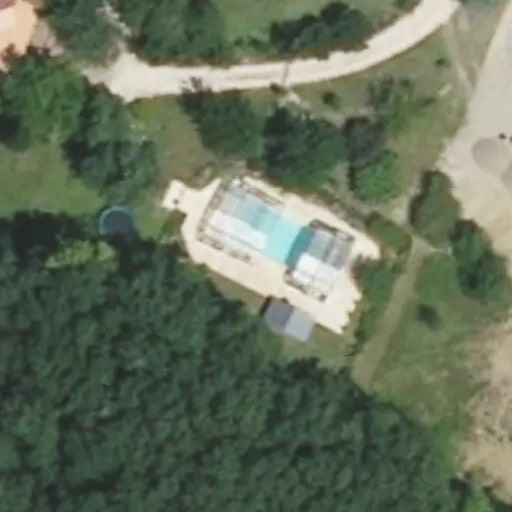pool: (201, 183, 351, 293)
